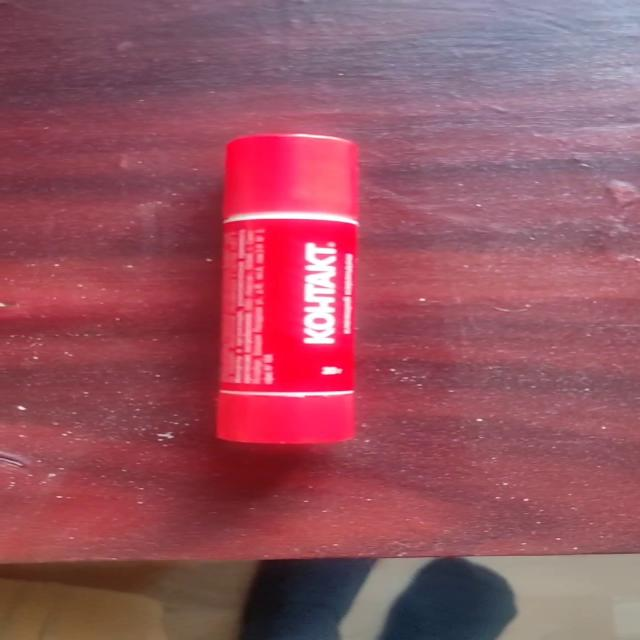glue: (214, 132, 361, 444)
